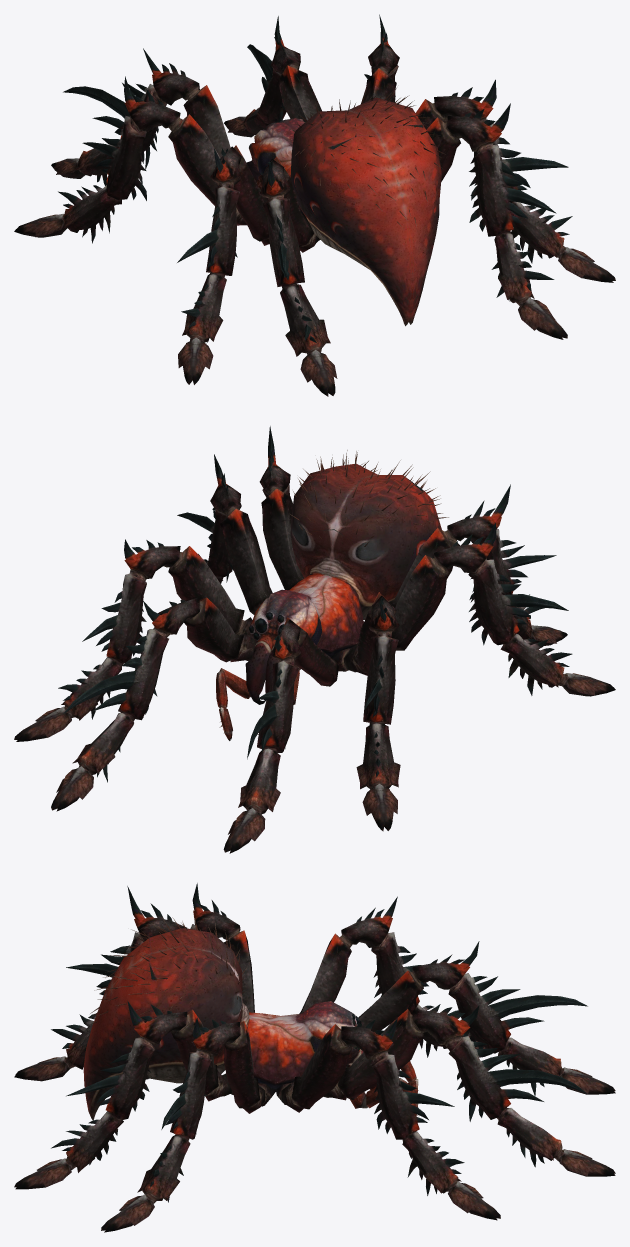
File: GiantSpider3a.obj
3 renders of one model, top to bottom at view 1: azimuth 30°, elevation 25°; view 2: azimuth 150°, elevation 25°; view 3: azimuth 270°, elevation 25°, orthographic. The views are drawn at different scales.
Visible parts, largest first — view 1: SpiderG_A01; view 2: SpiderG_A01; view 3: SpiderG_A01.
Boxes of the visible parts, box(x1,y1,x2,y2) form: SpiderG_A01: box(14, 14, 615, 396); SpiderG_A01: box(14, 426, 615, 853); SpiderG_A01: box(14, 883, 615, 1232).
Bounding box in the file's own units: 0.6452 × 0.3045 × 0.8025.
